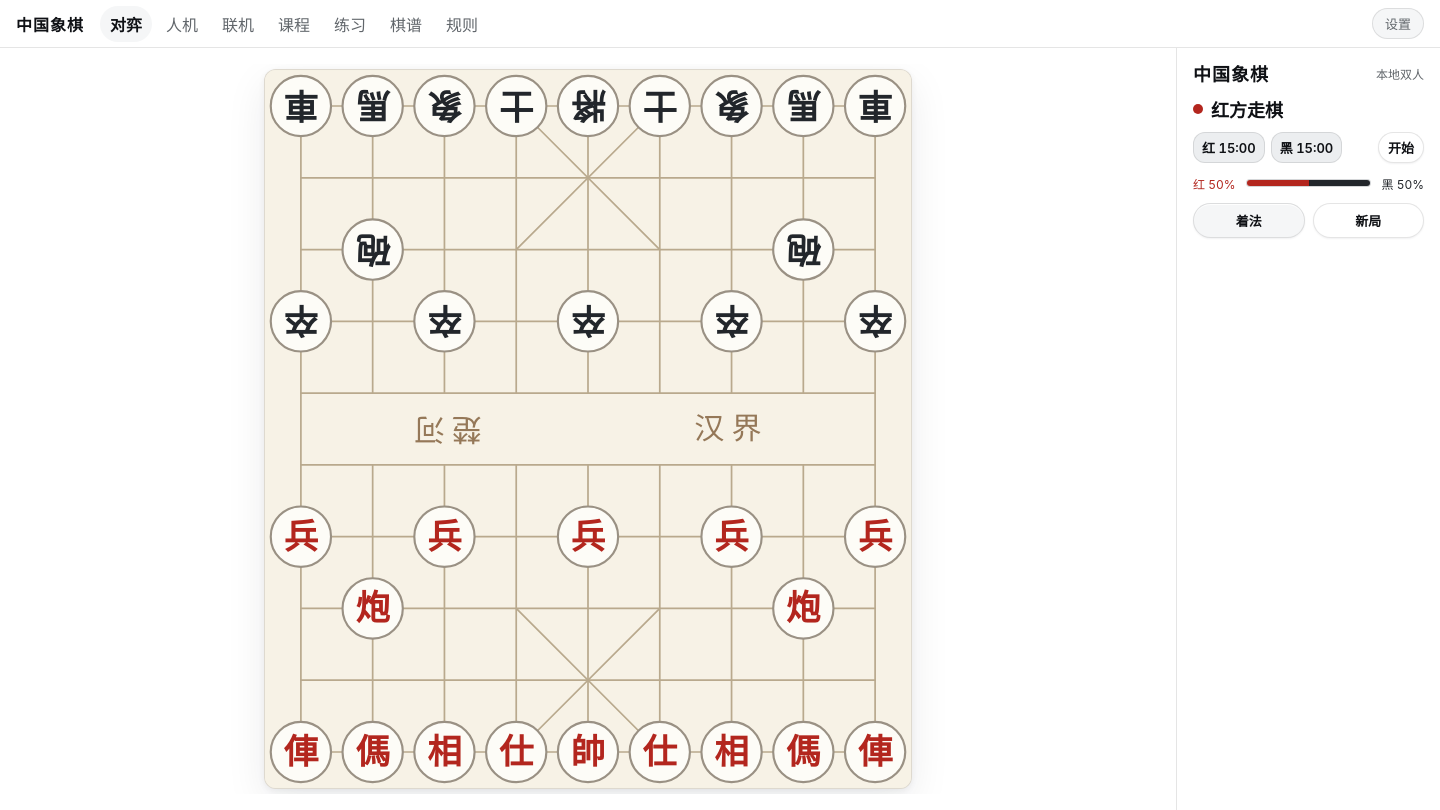
Test case: F1-1 本地双人走完一局并判和 › 点选走子后换边并写入记谱
Click the button "开始" at (1401,148), box x1=1378 y1=132 x2=1424 y2=163
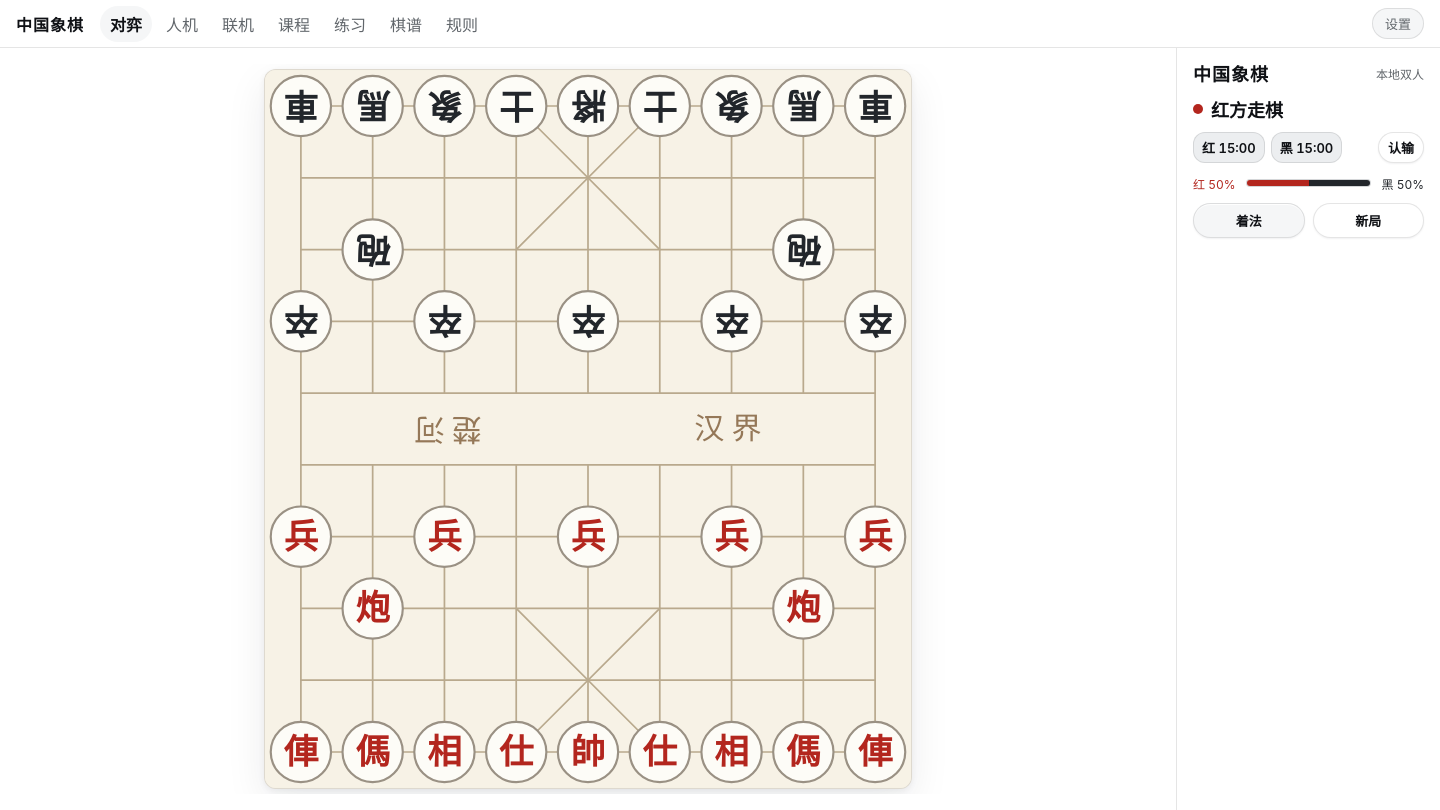
Press the mouse on the icon with class "board" at (588,429), box x1=264 y1=69 x2=912 y2=789
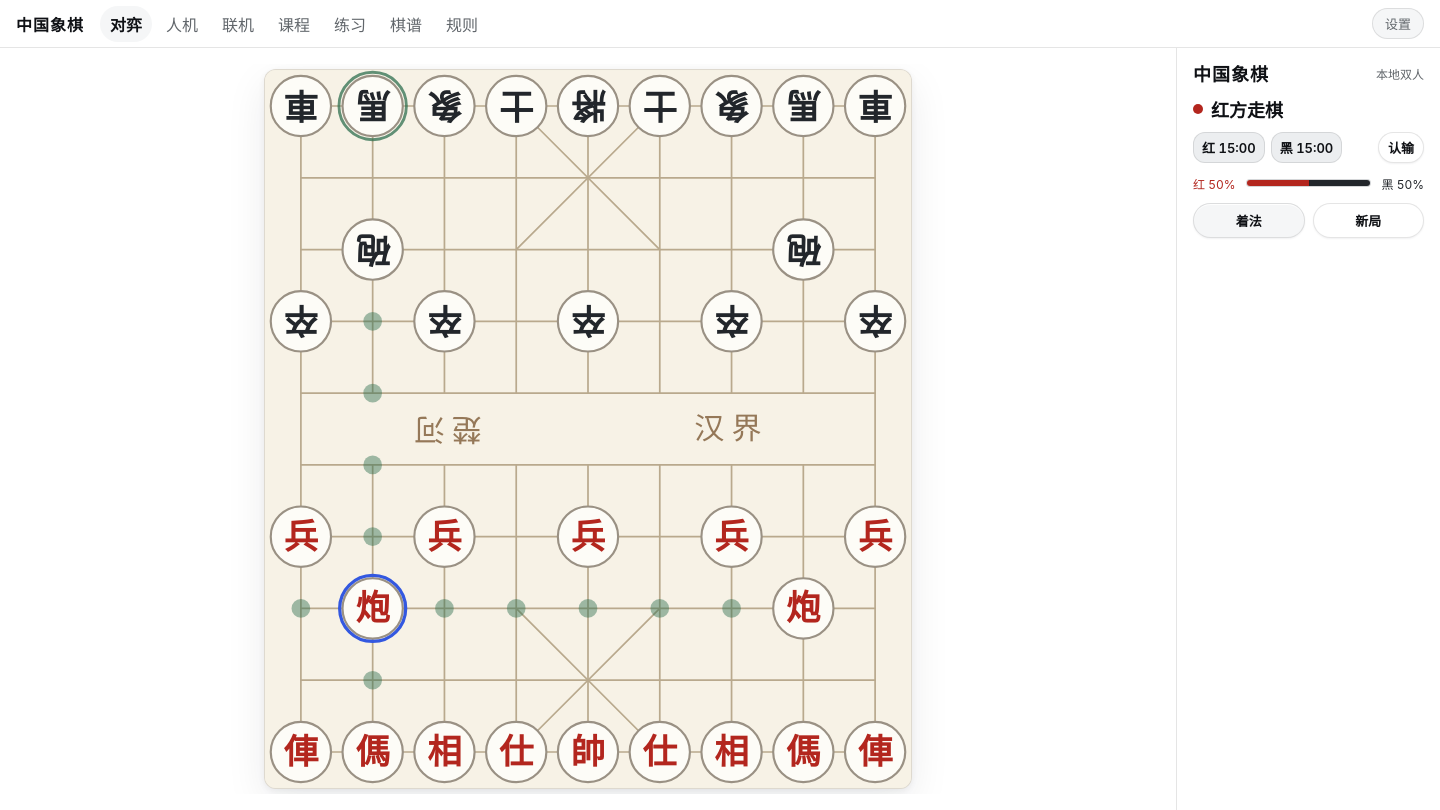
Press the mouse on the icon with class "board" at (588,429), box x1=264 y1=69 x2=912 y2=789
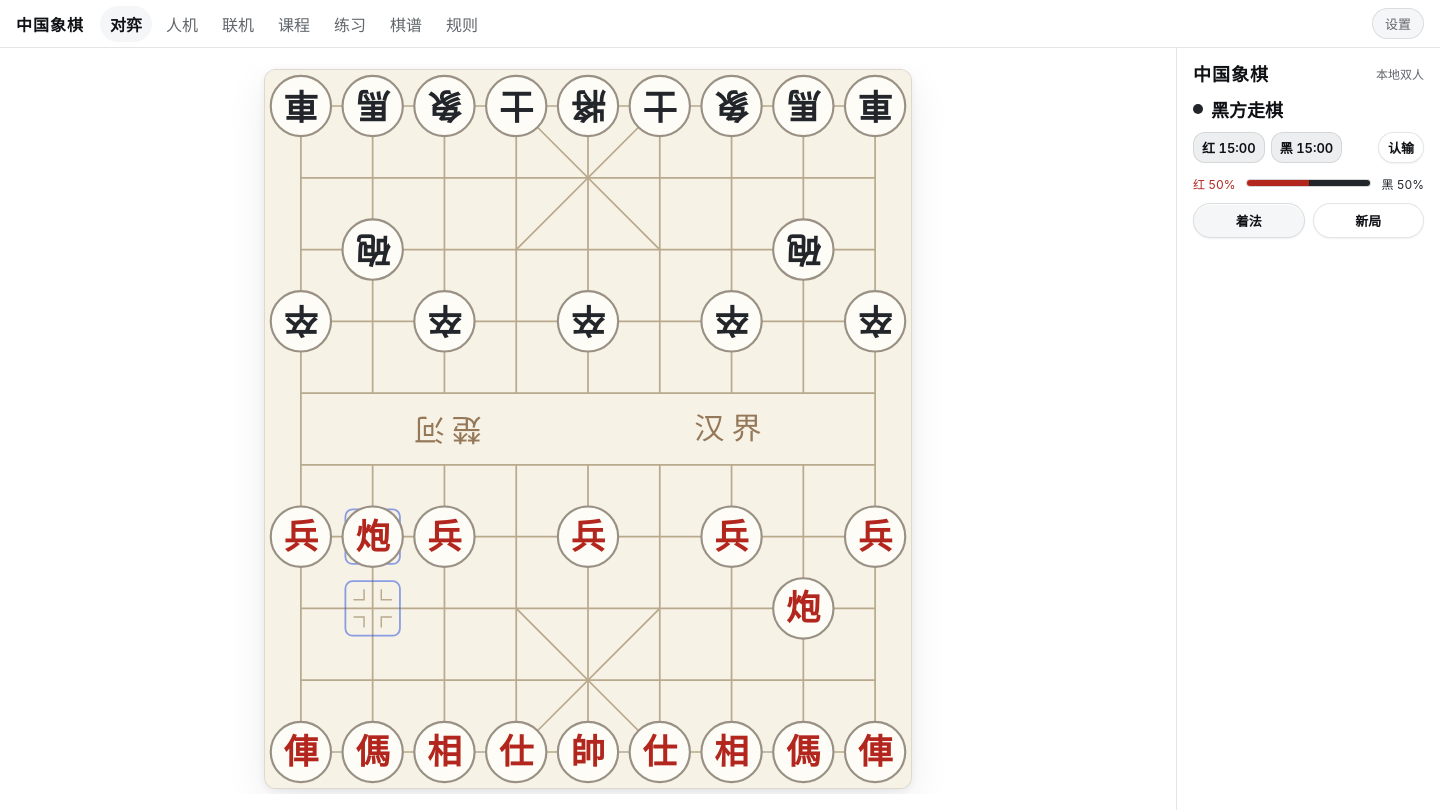
Expected: the message reads "黑方走棋", x1=1211 y1=100 x2=1283 y2=121
